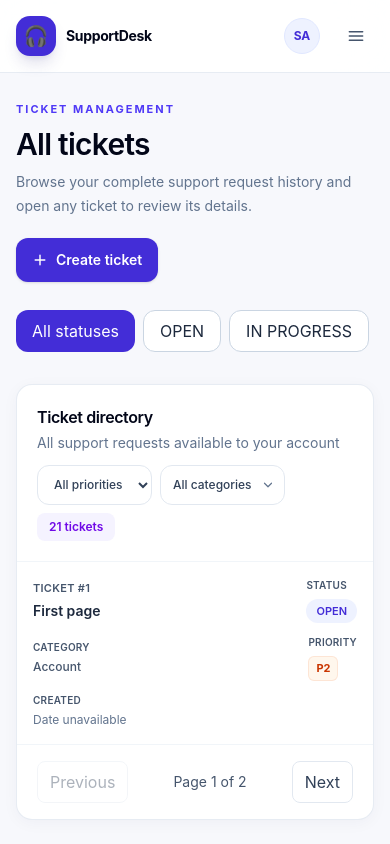
SupportDesk frontend foundation › filters categories across all ticket pages using the existing paginated API
Check: the link with aria-label "View ticket #1: First page" is shown, box [17,562,373,744]
Click the 2nd dropdown named "Filter tickets by category" at (222, 484), box [160,464,285,504]
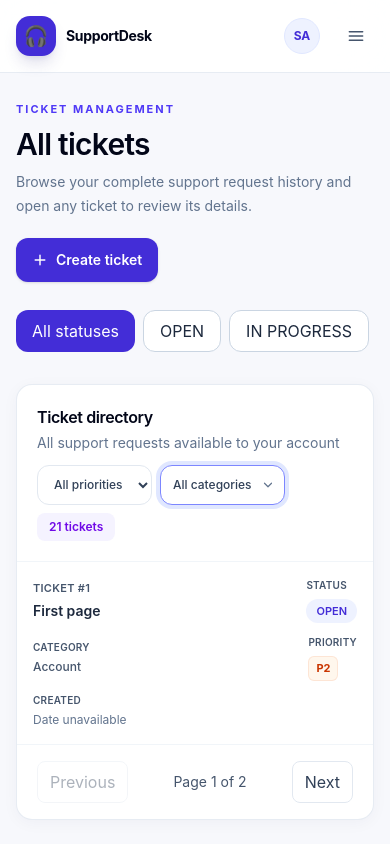
Select "Billing" in the 2nd dropdown named "Filter tickets by category" at (222, 484), box [160,464,285,504]
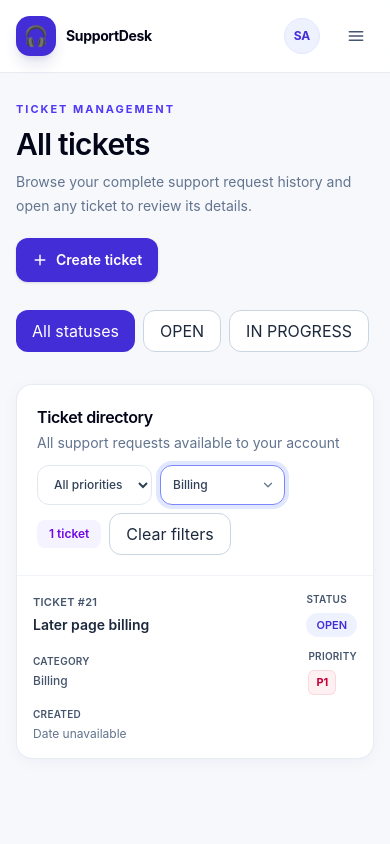
Check: the link with aria-label "View ticket #21: Later page billing" is shown, box [17,576,373,758]
